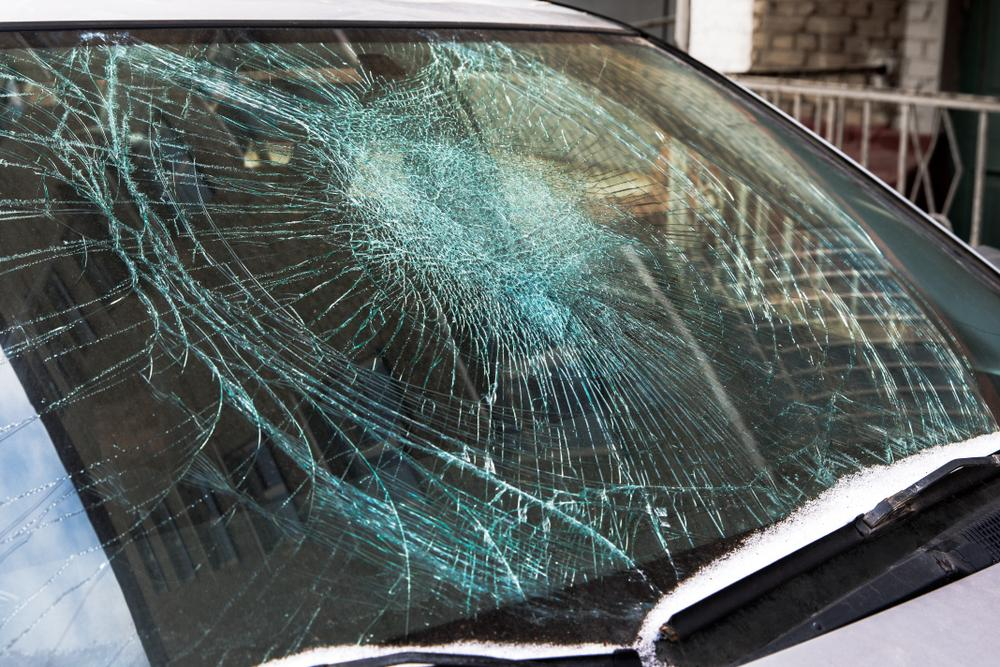glass shatter: (0, 24, 1000, 667)
